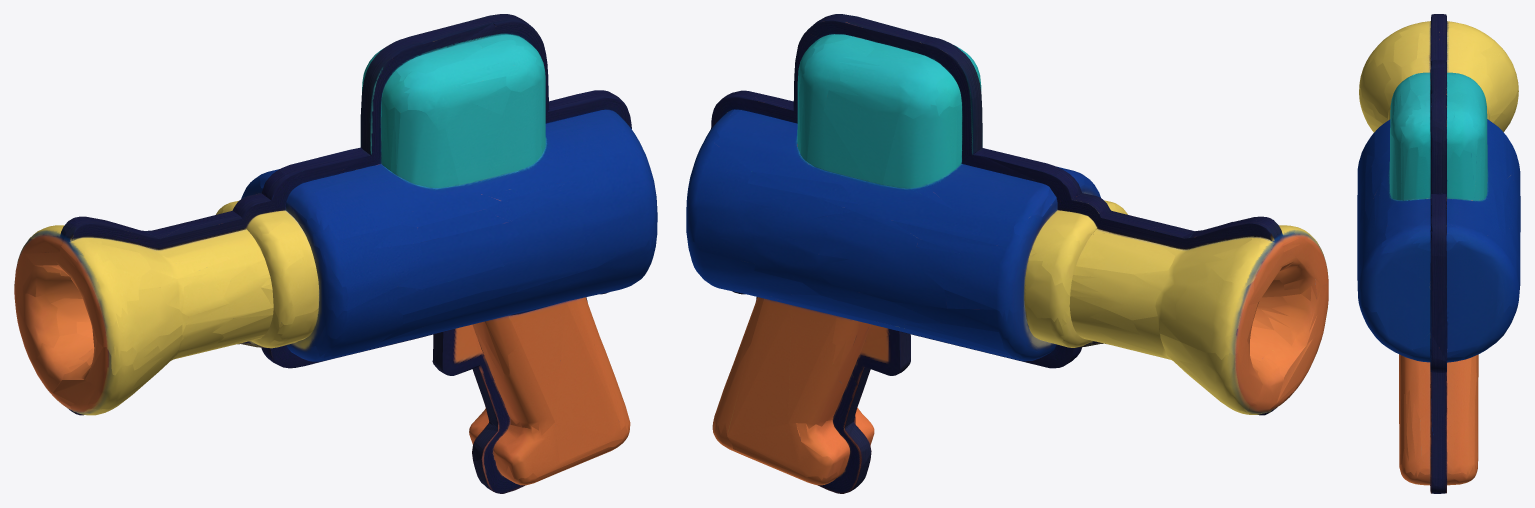
File: Vacuum_Basic.glb
3 views of the same model, side by side, from view 1: azimuth 30°, elevation 25°; view 2: azimuth 150°, elevation 25°; view 3: azimuth 270°, elevation 25° (orthographic). The views are drawn at different scales.
Bounding box in the file's own units: 1.9 × 1.51 × 0.601.
1 material, 1 textured.
